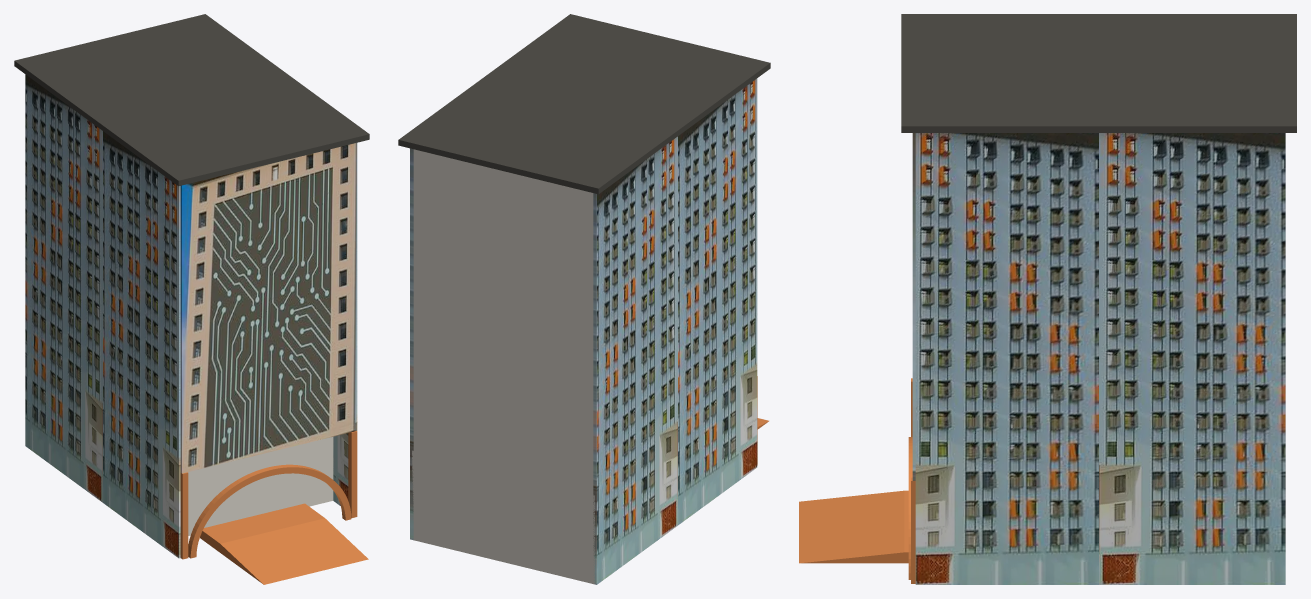
File: tech-park-2-sm.glb
3 renders of one model, left to right at view 1: azimuth 30°, elevation 25°; view 2: azimuth 150°, elevation 25°; view 3: azimuth 270°, elevation 25°, orthographic. The views are drawn at different scales.
Visible parts, largest first — view 1: TechPark2; view 2: TechPark2; view 3: TechPark2.
Part boxes in pixels (x1,y1,x2,y2): TechPark2: (14, 14, 369, 584); TechPark2: (398, 14, 770, 584); TechPark2: (799, 14, 1296, 584).
Bounding box in the file's own units: 32.8 × 62.9 × 61.4.
Materials: 5 (2 with a texture image).
